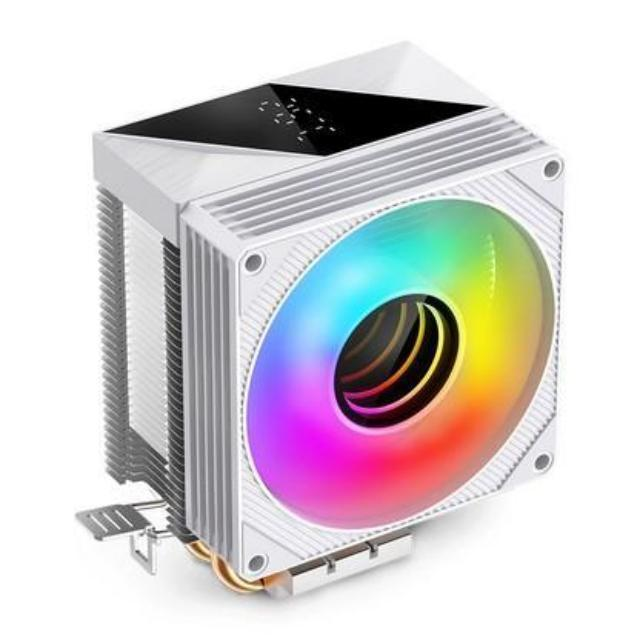CPU_Fan: (82, 22, 574, 608)
